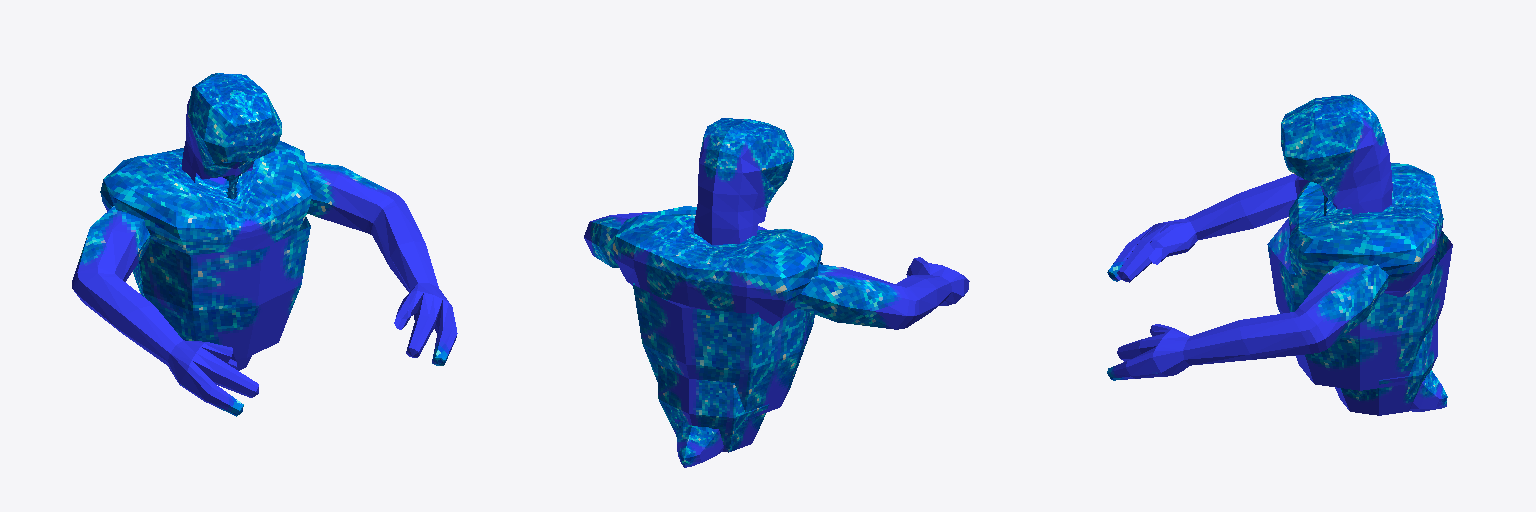
The picture shows the model from 3 angles: view 1: azimuth 30°, elevation 25°; view 2: azimuth 150°, elevation 25°; view 3: azimuth 270°, elevation 25°; orthographic projection.
Visible parts, largest first — view 1: Body, EffectOuter, ArmRight, ArmLeft, Head; view 2: Body, EffectOuter, Head, ArmRight, EffectInner, ArmLeft; view 3: Body, ArmLeft, EffectOuter, Head, ArmRight, EffectInner.
Part boxes in pixels (left/top/right/bottom): Body: left=100, top=140, right=311, bottom=254; EffectOuter: left=133, top=217, right=310, bottom=358; ArmRight: left=72, top=206, right=258, bottom=416; ArmLeft: left=306, top=161, right=457, bottom=365; Head: left=182, top=73, right=281, bottom=198; Body: left=612, top=206, right=822, bottom=467; EffectOuter: left=633, top=262, right=822, bottom=420; Head: left=694, top=118, right=793, bottom=244; ArmRight: left=794, top=257, right=969, bottom=329; EffectInner: left=658, top=364, right=768, bottom=452; ArmLeft: left=584, top=212, right=766, bottom=267; Body: left=1289, top=163, right=1447, bottom=411; ArmLeft: left=1107, top=262, right=1388, bottom=380; EffectOuter: left=1267, top=218, right=1452, bottom=390; Head: left=1281, top=94, right=1392, bottom=215; ArmRight: left=1107, top=174, right=1309, bottom=282; EffectInner: left=1335, top=321, right=1437, bottom=415.
Bounding box in the file's own units: 2.01 × 1.81 × 1.82.
Materials: 1 (1 with a texture image).